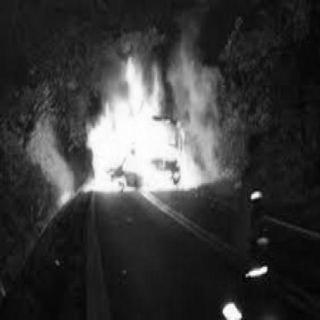Fire: (80, 54, 210, 190)
other: (220, 298, 242, 316), (244, 264, 268, 276), (250, 188, 262, 200)
